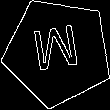M_S: (31, 23, 84, 81)
